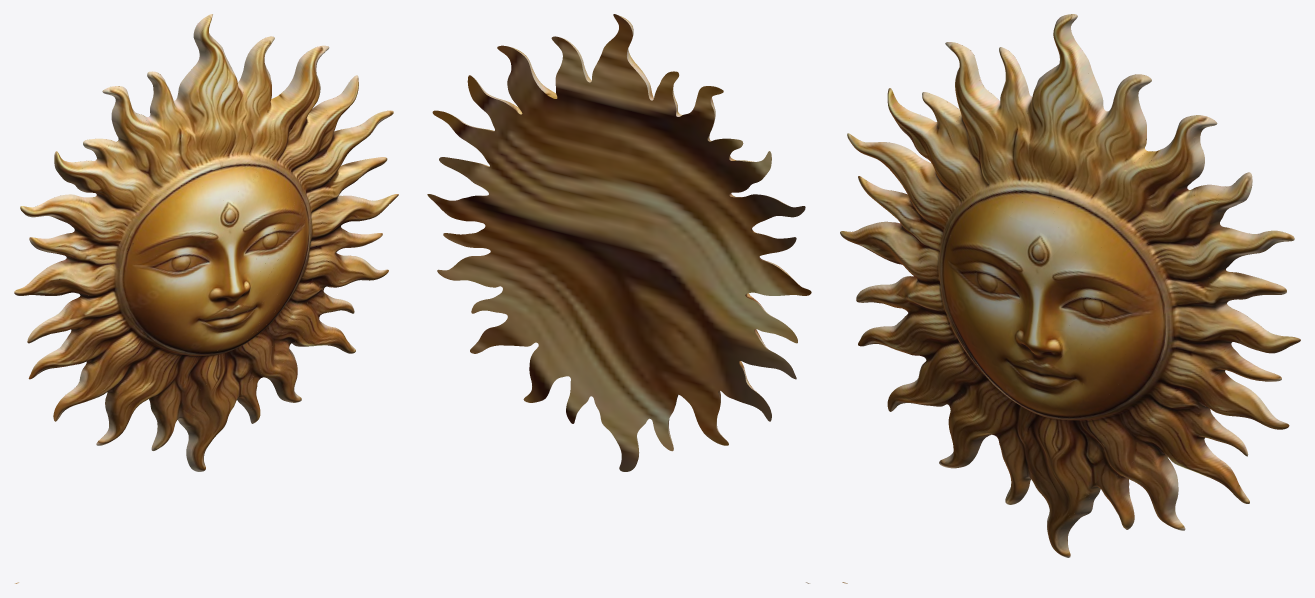
File: sun_face.glb
3 renders of one model, left to right at view 1: azimuth 30°, elevation 25°; view 2: azimuth 150°, elevation 25°; view 3: azimuth 330°, elevation 25°, orthographic. The views are drawn at different scales.
Parts seen in each view (by area): view 1: Plane_Material_0.003, Plane_Material_0.004, Plane_Material_0.002, Plane_Material_0.001, Plane_Material_0.005, Plane, Plane_Material_0.006; view 2: Plane, Plane_Material_0.004; view 3: Plane_Material_0.005, Plane_Material_0.004, Plane_Material_0.003, Plane_Material_0.002, Plane_Material_0.001, Plane, Plane_Material_0.006.
Boxes of the visible parts, bbox=[...] form: Plane_Material_0.003: bbox=[20, 37, 352, 402]; Plane_Material_0.004: bbox=[74, 14, 279, 471]; Plane_Material_0.002: bbox=[29, 75, 387, 379]; Plane_Material_0.001: bbox=[14, 110, 397, 470]; Plane_Material_0.005: bbox=[15, 40, 385, 583]; Plane: bbox=[28, 74, 398, 462]; Plane_Material_0.006: bbox=[28, 14, 263, 459]; Plane: bbox=[427, 14, 811, 471]; Plane_Material_0.004: bbox=[561, 15, 753, 441]; Plane_Material_0.005: bbox=[840, 76, 1283, 583]; Plane_Material_0.004: bbox=[909, 14, 1151, 557]; Plane_Material_0.003: bbox=[847, 78, 1239, 530]; Plane_Material_0.002: bbox=[858, 172, 1287, 503]; Plane_Material_0.001: bbox=[840, 221, 1298, 551]; Plane: bbox=[858, 20, 1300, 540]; Plane_Material_0.006: bbox=[901, 15, 1132, 541].
Bounding box in the file's own units: 1.82 × 2.37 × 0.2537.
Materials: 1 (1 with a texture image).
